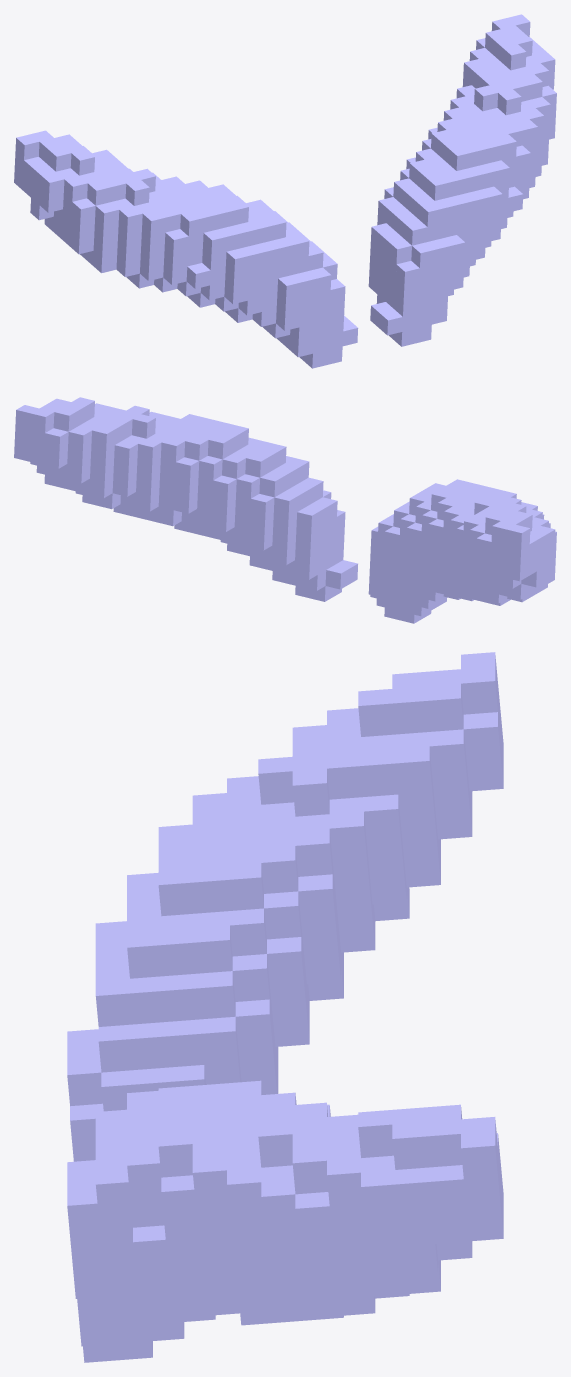
File: blue-magenta.gltf
3 views of the same model, one above another, from view 1: azimuth 30°, elevation 25°; view 2: azimuth 150°, elevation 25°; view 3: azimuth 270°, elevation 25° (orthographic). The views are drawn at different scales.
Parts seen in each view (by area): view 1: 眉毛.1; view 2: 眉毛.1; view 3: 眉毛.1.
Boxes of the visible parts, x1,y1,x2,y2 form: 眉毛.1: [14, 14, 556, 368]; 眉毛.1: [14, 397, 556, 623]; 眉毛.1: [67, 652, 503, 1362].
Size of the model in its own units: 2.72 by 1.04 by 1.02.
